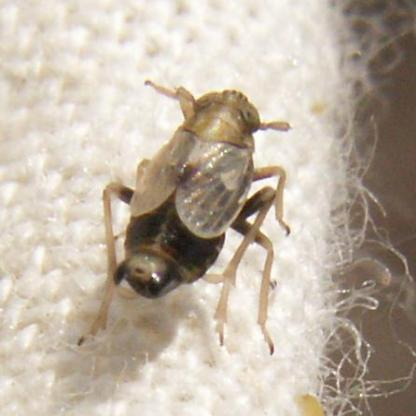brown-planthopper: (115, 72, 268, 294)
